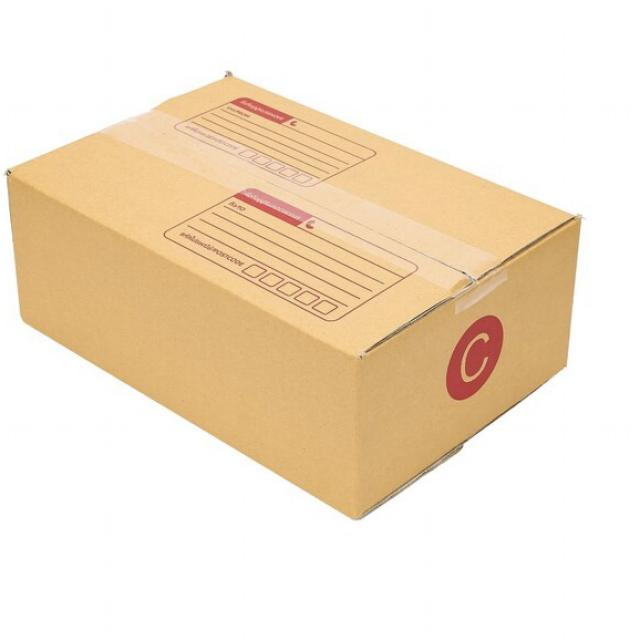box: (0, 53, 605, 521)
